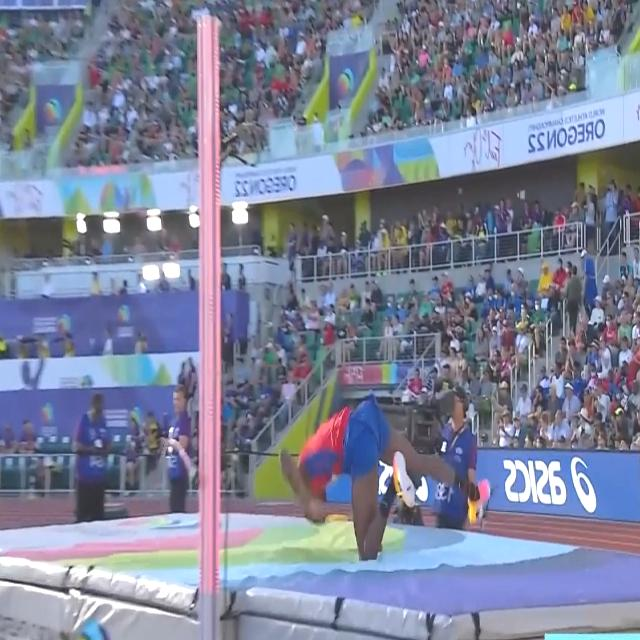land: (288, 398, 492, 570)
